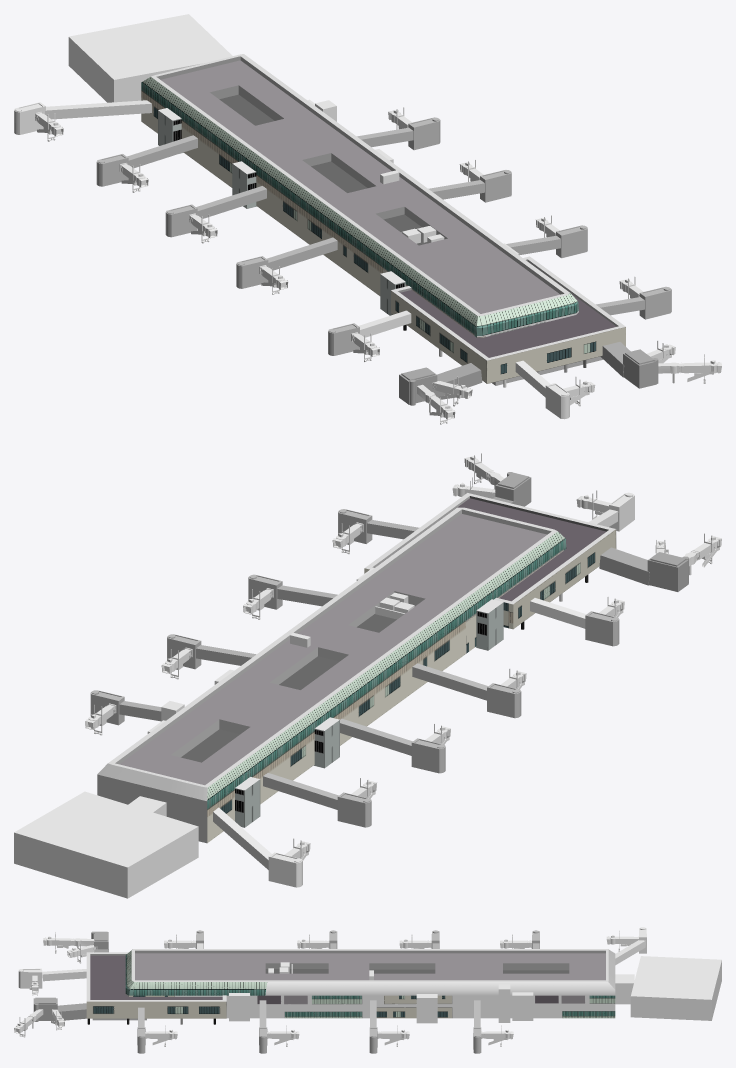
File: LIRF.dae
3 views of the same model, one above another, from view 1: azimuth 30°, elevation 25°; view 2: azimuth 150°, elevation 25°; view 3: azimuth 270°, elevation 25° (orthographic). The views are drawn at different scales.
Parts seen in each view (by area): view 1: roof, lateral_left, Cube.007, topborder, object2_roof, roof_inside, blah.001, object2_front, front, object2_lateral_left, object2_bordertop, Cube.030 (+19 smaller); view 2: roof, lateral_left, Cube.007, topborder, back, roof_inside, blah.001, object2_roof, object2_lateral_left, object2_bordertop, Cube.008, Cube.022 (+17 smaller); view 3: lateral_right, roof, Cube.007, topborder, object2_lateral_right, roof_inside, object2_roof, blah.001, object2_bordertop, Cube.003, Cube.002, Cube.004 (+10 smaller).
Boxes of the visible parts, x1=… form: roof: x1=161, y1=60, x2=559, y2=313; lateral_left: x1=141, y1=77, x2=477, y2=337; Cube.007: x1=68, y1=14, x2=232, y2=102; topborder: x1=151, y1=54, x2=569, y2=316; object2_roof: x1=400, y1=290, x2=616, y2=357; roof_inside: x1=210, y1=85, x2=447, y2=245; blah.001: x1=399, y1=342, x2=658, y2=405; object2_front: x1=487, y1=327, x2=625, y2=383; front: x1=476, y1=293, x2=578, y2=337; object2_lateral_left: x1=391, y1=290, x2=486, y2=383; object2_bordertop: x1=391, y1=256, x2=625, y2=360; Cube.030: x1=45, y1=100, x2=151, y2=119; roof: x1=119, y1=514, x2=546, y2=785; lateral_left: x1=207, y1=531, x2=566, y2=842; Cube.007: x1=14, y1=791, x2=198, y2=898; topborder: x1=108, y1=507, x2=557, y2=787; back: x1=97, y1=763, x2=207, y2=843; roof_inside: x1=171, y1=591, x2=425, y2=762; blah.001: x1=492, y1=472, x2=688, y2=591; object2_roof: x1=457, y1=498, x2=605, y2=601; object2_lateral_left: x1=513, y1=529, x2=616, y2=628; object2_bordertop: x1=365, y1=493, x2=615, y2=604; Cube.008: x1=476, y1=599, x2=503, y2=650; Cube.022: x1=263, y1=773, x2=338, y2=809; lateral_right: x1=129, y1=982, x2=615, y2=1018; roof: x1=135, y1=953, x2=605, y2=980; Cube.007: x1=630, y1=956, x2=721, y2=1020; topborder: x1=131, y1=949, x2=608, y2=981; object2_lateral_right: x1=86, y1=1001, x2=226, y2=1018; roof_inside: x1=265, y1=963, x2=569, y2=973; object2_roof: x1=90, y1=955, x2=222, y2=999; blah.001: x1=33, y1=931, x2=108, y2=1021; object2_bordertop: x1=86, y1=952, x2=226, y2=1001; Cube.003: x1=416, y1=994, x2=437, y2=1023; Cube.002: x1=512, y1=992, x2=533, y2=1020; Cube.004: x1=229, y1=993, x2=249, y2=1021.
Bounding box in the file's own units: 112 × 18.38 × 304.
